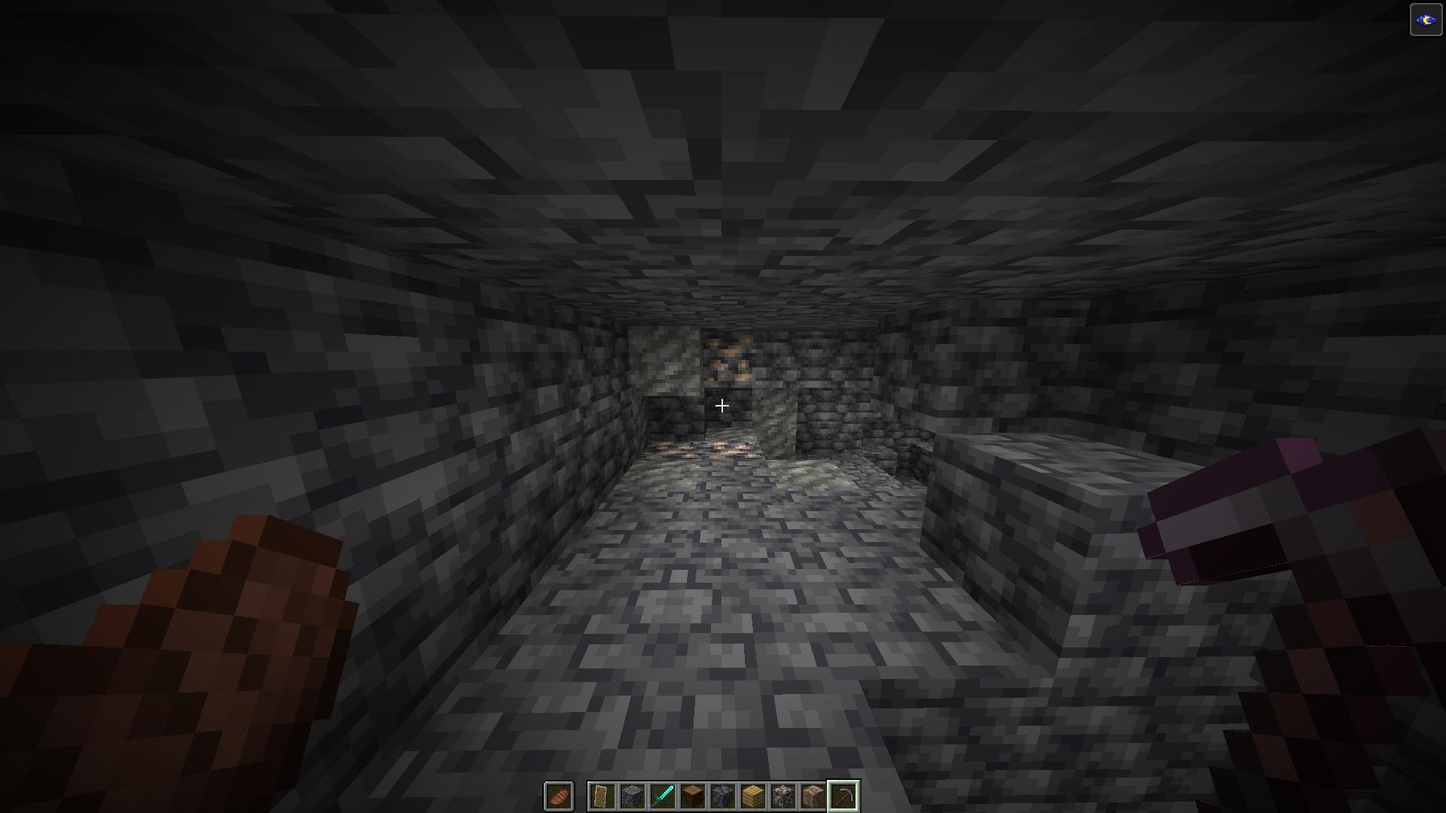iron ore: (699, 326, 754, 385), (640, 439, 702, 460), (702, 441, 761, 461)
